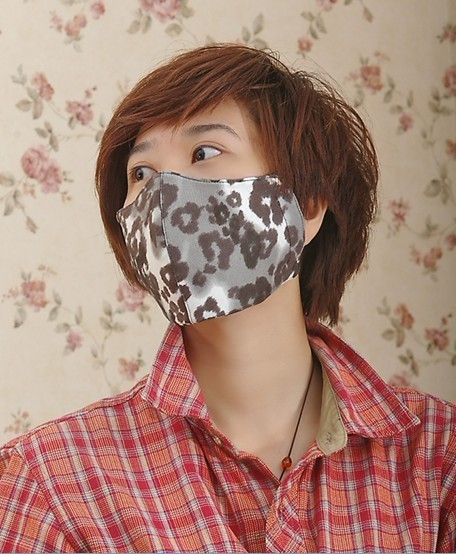face_mask: (122, 90, 301, 325)
